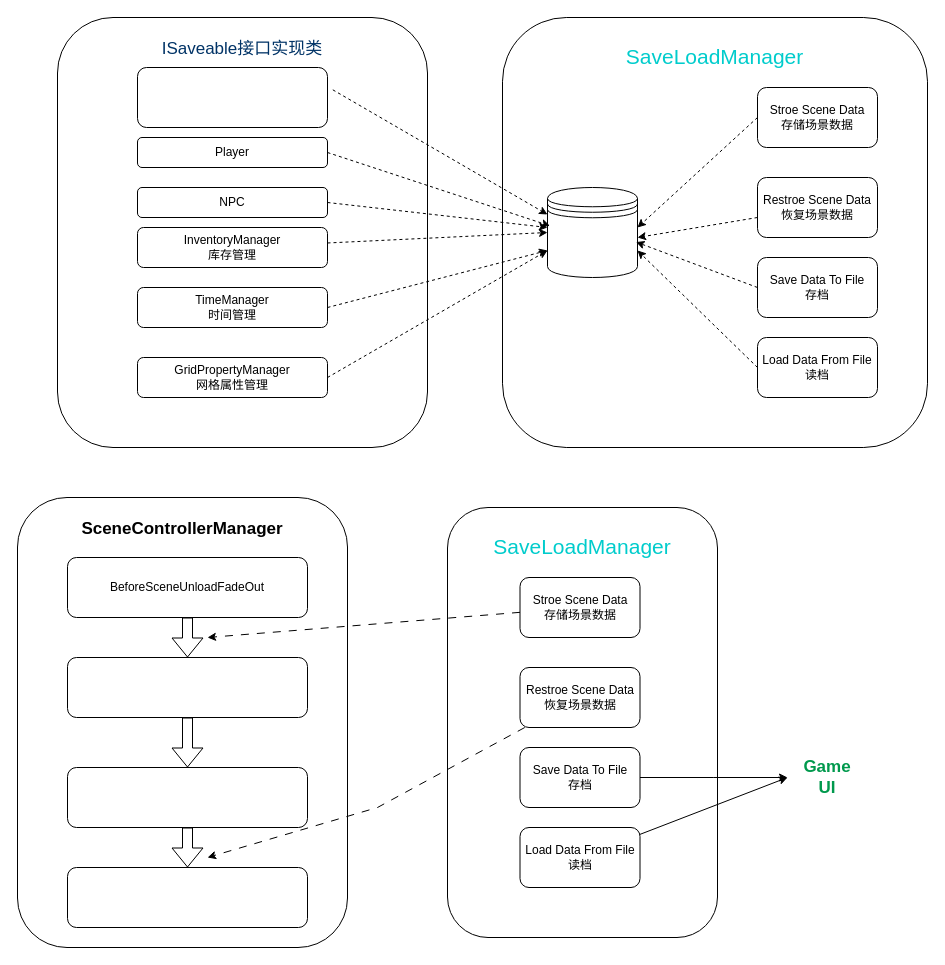
Image size: 945x965. Some labels were removed from this diagram. The shapes that lost their labels are listed below. From the top down, each one's centre as x and y in pixels, then its label:
point (232, 97): SceneItemsManager 场景物品
point (592, 232): ISaveable ObjectList
point (187, 687): BeforeSceneUnload
point (187, 797): AfterSceneLoad
point (187, 897): AfterSceneLoadFadeIn
